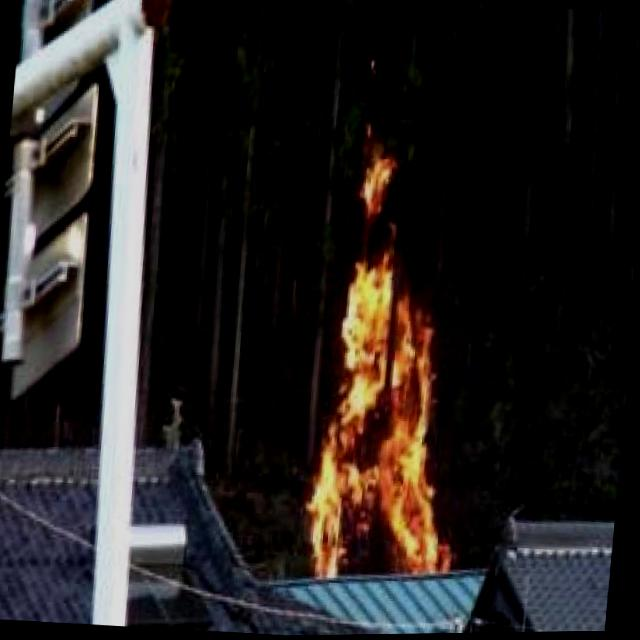Smoke: (303, 144, 484, 594)
